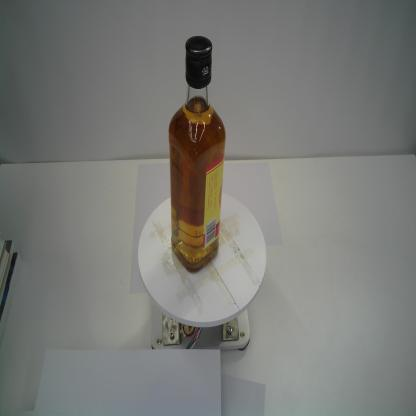Seasoner: (165, 33, 228, 277)
